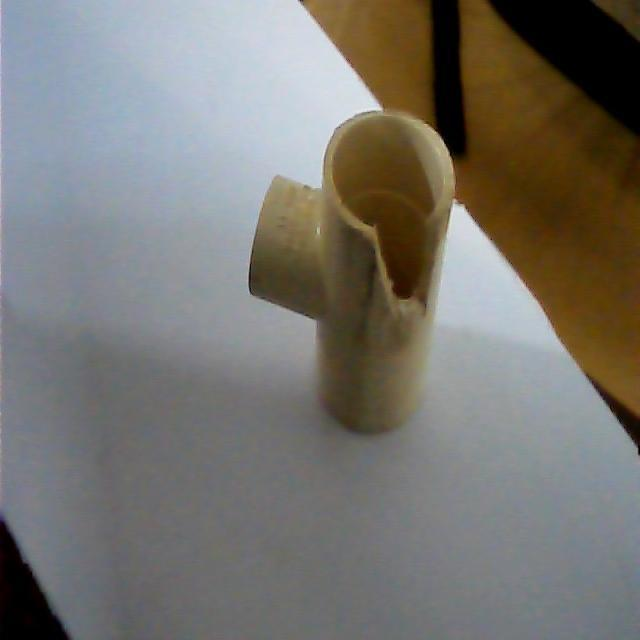Defective: (368, 212, 442, 322)
T Joint: (248, 111, 455, 434)
